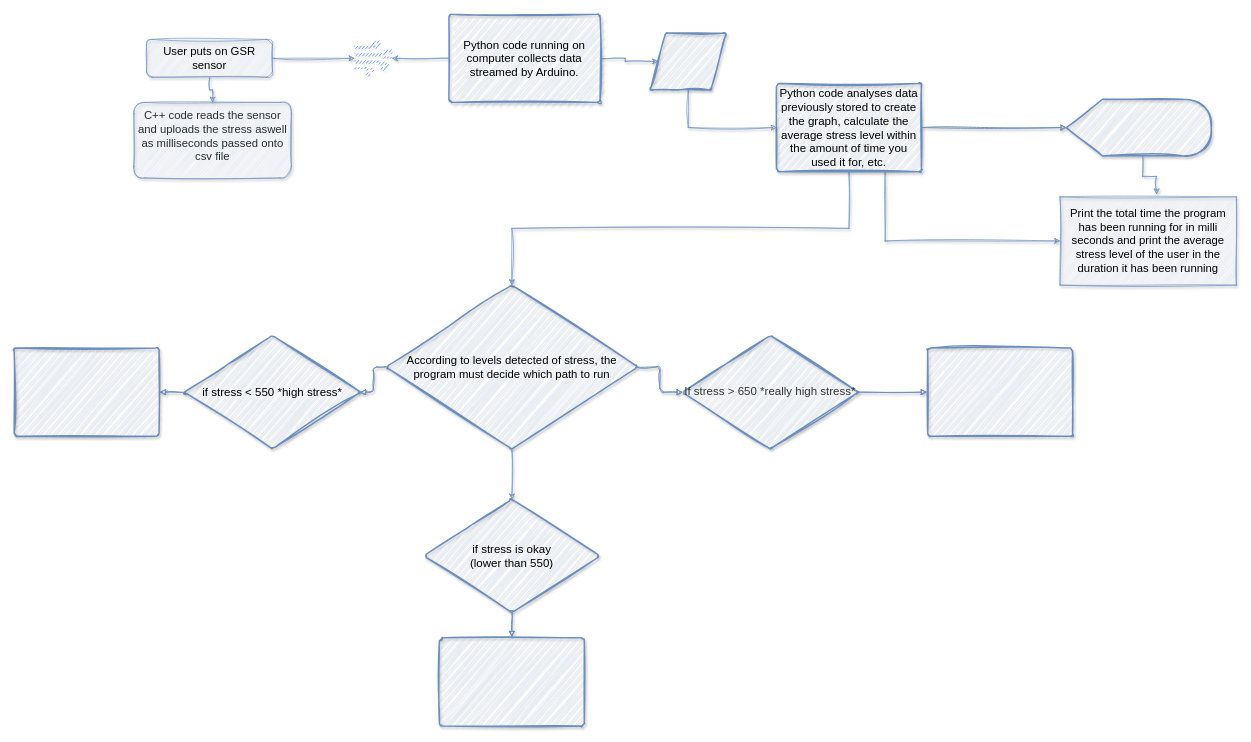
Image size: 1251x742. Some labels were removed from this diagram. The centre of each missing label's shape, as x and y in pixels:
"Colour of line on graph changes to red" goes at [87,393].
"Data" goes at [688,62].
"Display analysis results." goes at [1139,128].
"Line colour changes to green and a warning sound plays." goes at [1000,393].
"Line of graph should be green" goes at [512,682].
